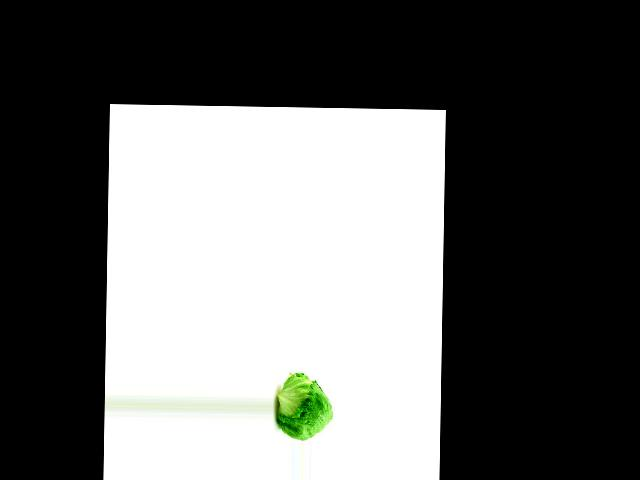lettuce: (276, 372, 335, 443)
